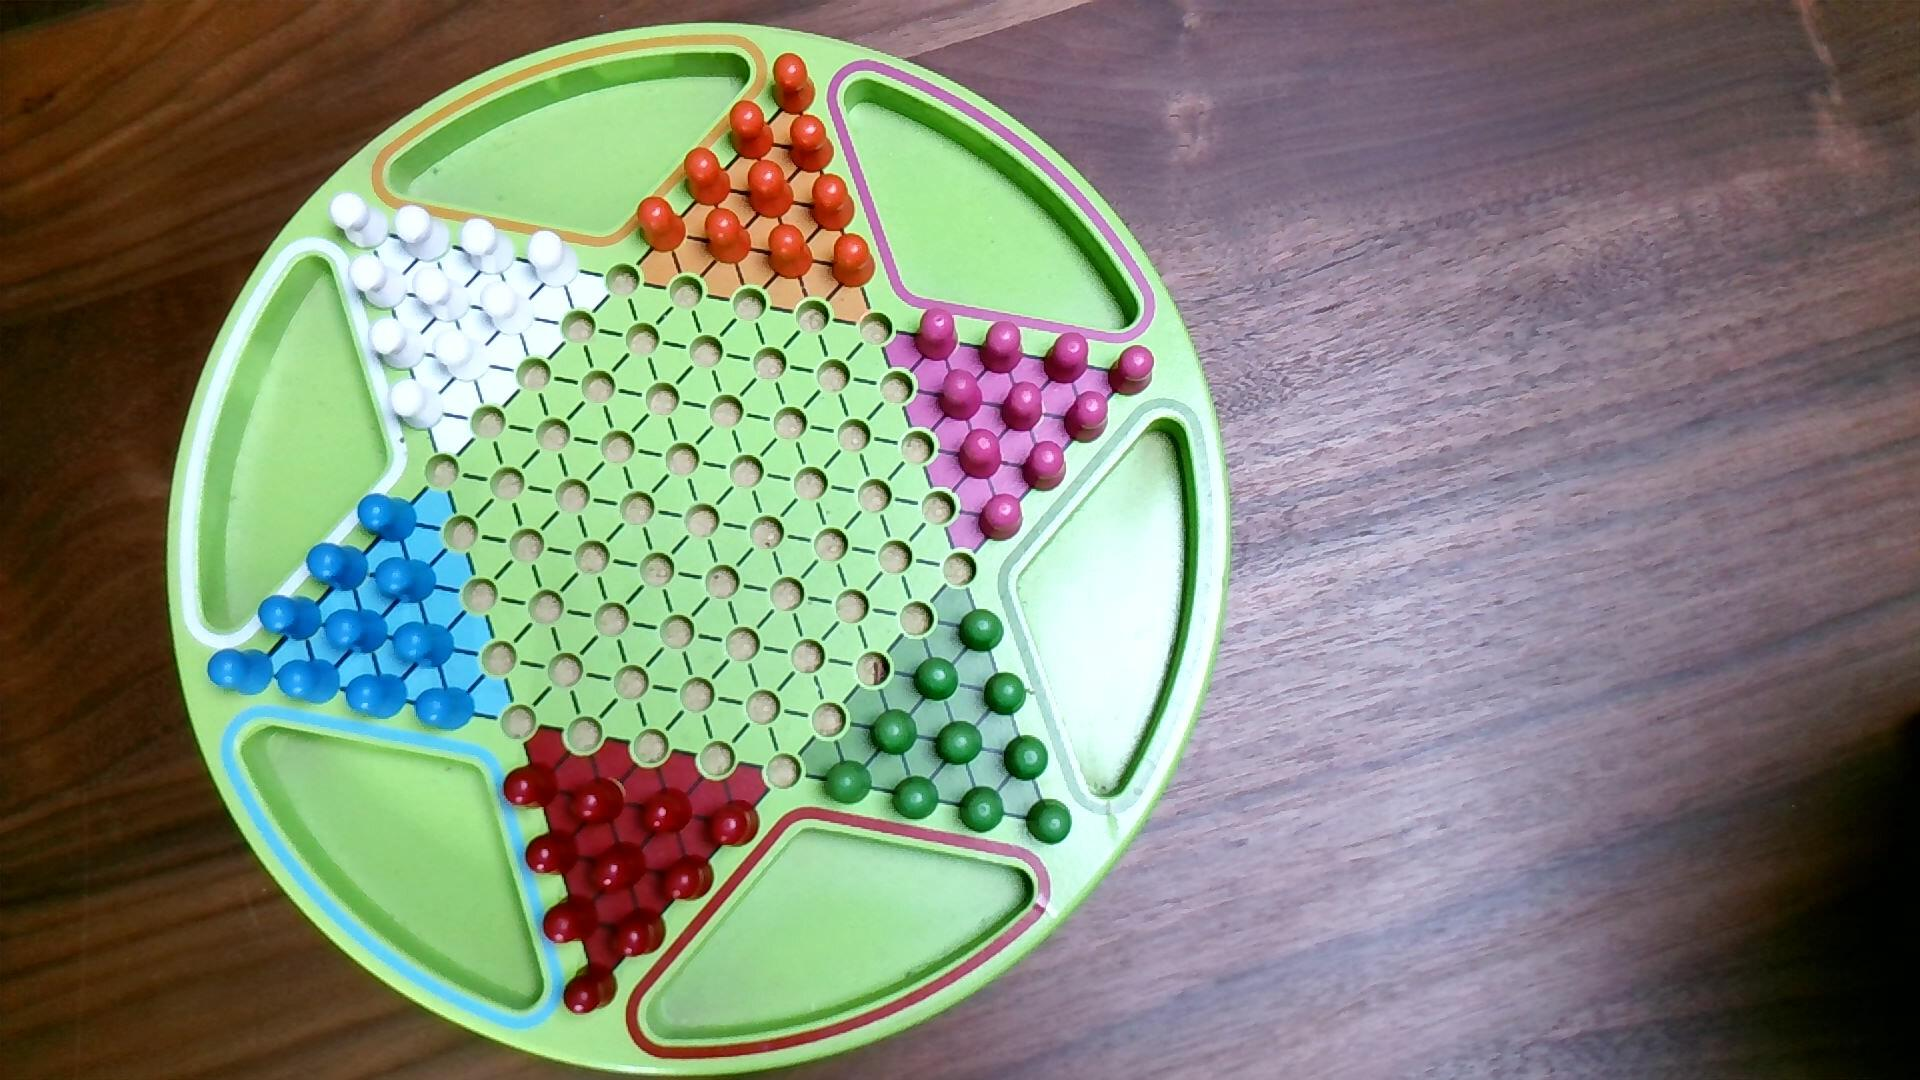B: (207, 644, 278, 699), (355, 489, 419, 547), (375, 554, 440, 609), (276, 657, 344, 709), (392, 618, 458, 673), (305, 541, 371, 593), (323, 607, 390, 658), (257, 593, 324, 642), (347, 673, 410, 723), (414, 684, 477, 735)
G: (822, 757, 877, 808), (1025, 794, 1076, 849), (957, 782, 1007, 837), (889, 771, 942, 823), (869, 707, 920, 760), (956, 604, 1007, 655), (1001, 731, 1051, 783), (911, 654, 961, 704), (934, 720, 986, 767), (981, 670, 1030, 719)
O: (704, 204, 756, 269), (683, 144, 735, 208), (636, 193, 688, 255), (746, 157, 796, 222), (771, 50, 819, 117), (789, 111, 837, 175), (729, 98, 777, 162), (829, 231, 880, 291), (810, 171, 858, 233), (767, 222, 816, 282)
R: (601, 905, 670, 963), (587, 839, 651, 898), (563, 771, 629, 829), (559, 961, 620, 1019), (501, 760, 564, 814), (655, 851, 719, 905), (543, 890, 603, 947), (704, 796, 764, 851), (637, 785, 695, 839), (524, 829, 582, 880)
R2: (1062, 389, 1112, 447), (977, 319, 1027, 377), (1106, 342, 1156, 400), (998, 377, 1047, 436), (936, 364, 985, 423), (1040, 330, 1091, 386), (956, 425, 1005, 483), (913, 305, 961, 363), (1021, 439, 1069, 495), (975, 492, 1026, 543)
W: (328, 190, 394, 253), (409, 262, 476, 324), (429, 324, 496, 384), (348, 249, 411, 311), (392, 203, 455, 265), (525, 228, 585, 290), (458, 218, 518, 278), (477, 278, 538, 339), (368, 314, 430, 372), (389, 378, 448, 433)
